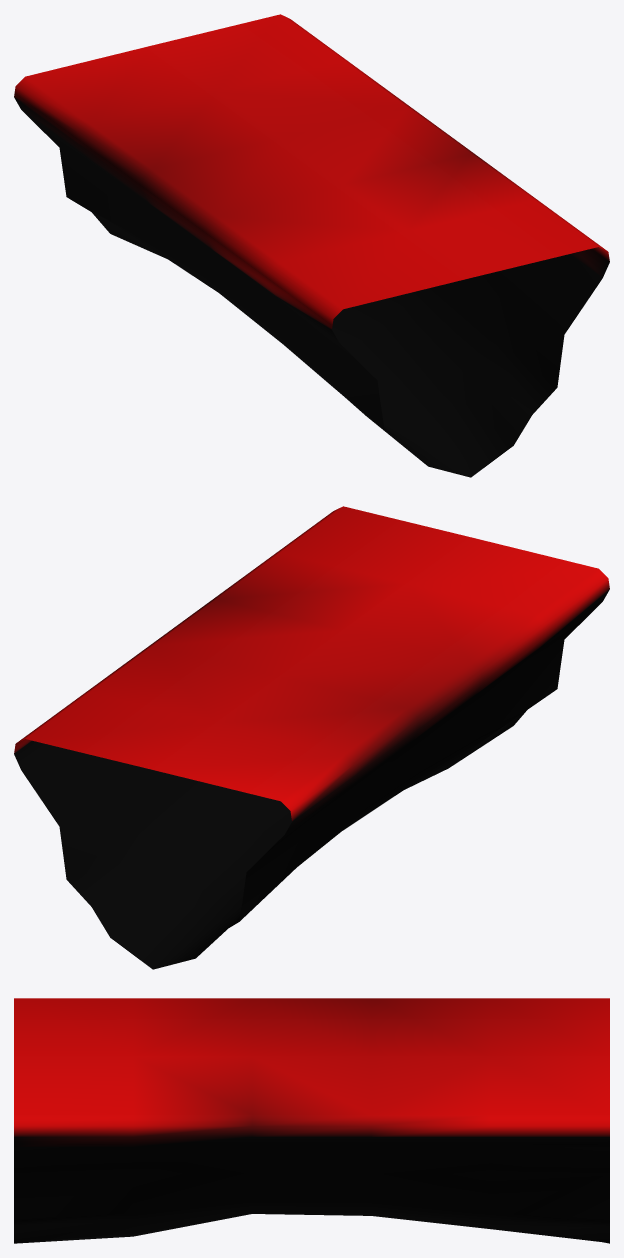
Rendered from CrossingCliff01B 2M Background.fbx.
3 renders of one model, top to bottom at view 1: azimuth 30°, elevation 25°; view 2: azimuth 150°, elevation 25°; view 3: azimuth 270°, elevation 25°, orthographic. The views are drawn at different scales.
Parts seen in each view (by area): view 1: CrossingCliff01B 2M Background; view 2: CrossingCliff01B 2M Background; view 3: CrossingCliff01B 2M Background.
Part boxes in pixels (left/top/right/bottom): CrossingCliff01B 2M Background: left=14, top=14, right=609, bottom=477; CrossingCliff01B 2M Background: left=14, top=506, right=609, bottom=969; CrossingCliff01B 2M Background: left=14, top=998, right=609, bottom=1243.
Bounding box in the file's own units: 1.01 × 0.693 × 2.
